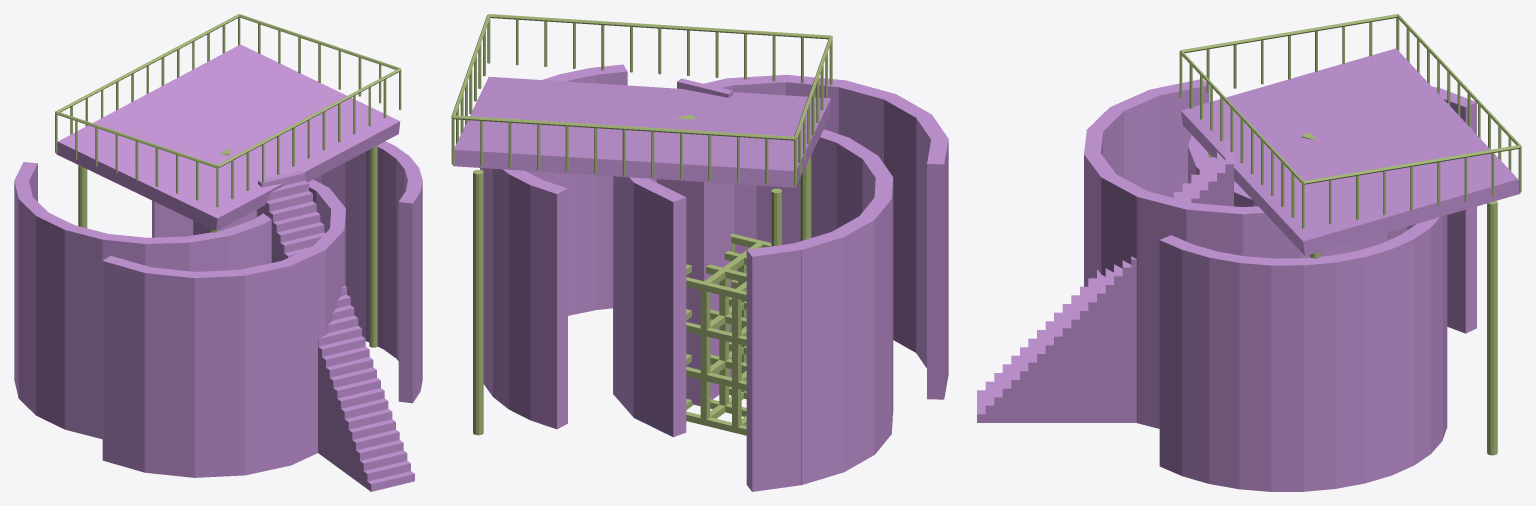
The model's file is folie_tag_019.glb.
3 renders of one model, left to right at view 1: azimuth 30°, elevation 25°; view 2: azimuth 150°, elevation 25°; view 3: azimuth 270°, elevation 25°, orthographic. The views are drawn at different scales.
Visible parts, largest first — view 1: folie_tag_019_03_curve, folie_tag_019_00_plate, folie_tag_019_01_curve, folie_tag_019_stairs, folie_tag_019_02_curve, folie_tag_019_line; view 2: folie_tag_019_01_curve, folie_tag_019_03_curve, folie_tag_019_00_plate, folie_tag_019_02_curve, folie_tag_019_line, folie_tag_019_04_cage, folie_tag_019_core, folie_tag_019_stairs; view 3: folie_tag_019_02_curve, folie_tag_019_00_plate, folie_tag_019_03_curve, folie_tag_019_stairs, folie_tag_019_line, folie_tag_019_01_curve.
Boxes of the visible parts, x1,y1,x2,y2 form: folie_tag_019_03_curve: [102, 179, 345, 477]; folie_tag_019_00_plate: [56, 44, 400, 230]; folie_tag_019_01_curve: [14, 162, 271, 439]; folie_tag_019_stairs: [258, 170, 414, 491]; folie_tag_019_02_curve: [313, 141, 422, 403]; folie_tag_019_line: [55, 14, 401, 347]; folie_tag_019_01_curve: [649, 129, 893, 491]; folie_tag_019_03_curve: [613, 74, 948, 437]; folie_tag_019_00_plate: [453, 76, 830, 187]; folie_tag_019_02_curve: [480, 64, 627, 429]; folie_tag_019_line: [451, 14, 832, 435]; folie_tag_019_04_cage: [686, 233, 771, 435]; folie_tag_019_core: [656, 179, 730, 405]; folie_tag_019_stairs: [677, 78, 734, 233]; folie_tag_019_02_curve: [1159, 215, 1447, 491]; folie_tag_019_00_plate: [1181, 48, 1520, 255]; folie_tag_019_03_curve: [1084, 79, 1406, 428]; folie_tag_019_stairs: [977, 140, 1233, 422]; folie_tag_019_line: [1179, 14, 1521, 455]; folie_tag_019_01_curve: [1188, 86, 1476, 333].
Bounding box in the file's own units: 9.56 × 7.33 × 11.45.
